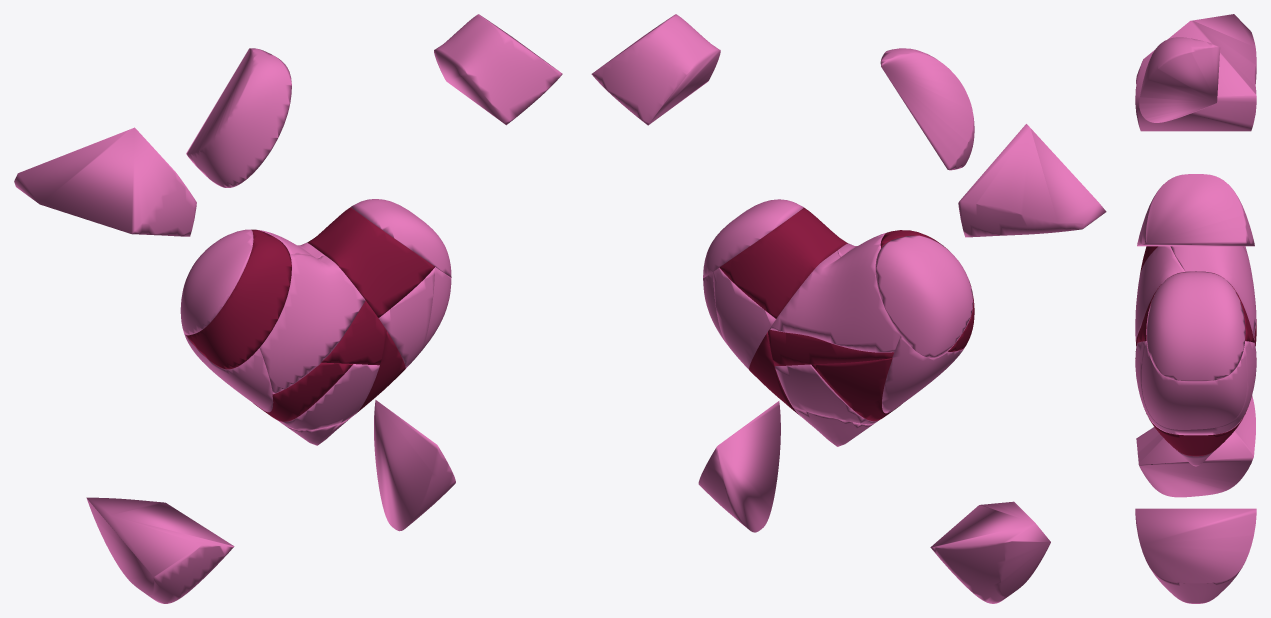
File: corazon 2.0.fbx
The picture shows the model from 3 angles, left to right: view 1: azimuth 30°, elevation 25°; view 2: azimuth 150°, elevation 25°; view 3: azimuth 270°, elevation 25°; orthographic projection. The views are drawn at different scales.
Visible parts, largest first — view 1: Cube.correcto4, Cube.correcto2, Cube.004.correcto5, Cube.011, Cube.correcto3, Cube.003.inc, Cube.006.inc, Cube.correcto1, Cube, Cube.001, Cube.013, Cube.009 (+5 smaller); view 2: Cube.correcto4, Cube, Cube.010, Cube.correcto3, Cube.correcto2, Cube.006.inc, Cube.correcto1, Cube.004.correcto5, Cube.009, Cube.001, Cube.007.inc, Cube.005 (+5 smaller); view 3: Cube.001, Cube.correcto1, Cube.correcto4, Cube.correcto3, Cube.correcto2, Cube.004.correcto5, Cube.002, Cube.010, Cube.011, Cube.009, Cube.004.inc, Cube.006.inc (+1 smaller).
Boxes of the visible parts, left/top/right/bottom form: Cube.correcto4: left=14, top=127, right=196, bottom=236; Cube.correcto2: left=86, top=497, right=234, bottom=603; Cube.004.correcto5: left=186, top=48, right=291, bottom=187; Cube.011: left=259, top=254, right=365, bottom=394; Cube.correcto3: left=434, top=14, right=562, bottom=125; Cube.003.inc: left=186, top=229, right=291, bottom=369; Cube.006.inc: left=307, top=207, right=434, bottom=317; Cube.correcto1: left=374, top=400, right=455, bottom=531; Cube: left=180, top=229, right=253, bottom=335; Cube.001: left=351, top=199, right=451, bottom=277; Cube.013: left=277, top=364, right=379, bottom=430; Cube.009: left=378, top=267, right=435, bottom=368; Cube.correcto4: left=958, top=124, right=1106, bottom=237; Cube: left=875, top=235, right=973, bottom=358; Cube.010: left=769, top=233, right=900, bottom=352; Cube.correcto3: left=591, top=14, right=720, bottom=125; Cube.correcto2: left=930, top=501, right=1050, bottom=603; Cube.006.inc: left=719, top=207, right=847, bottom=318; Cube.correcto1: left=698, top=401, right=780, bottom=532; Cube.004.correcto5: left=880, top=48, right=974, bottom=170; Cube.009: left=713, top=267, right=775, bottom=369; Cube.001: left=703, top=199, right=803, bottom=278; Cube.007.inc: left=811, top=358, right=901, bottom=421; Cube.005: left=882, top=336, right=964, bottom=413; Cube.001: left=1146, top=271, right=1245, bottom=381; Cube.correcto1: left=1135, top=508, right=1256, bottom=603; Cube.correcto4: left=1135, top=14, right=1256, bottom=131; Cube.correcto3: left=1137, top=174, right=1254, bottom=246; Cube.correcto2: left=1136, top=395, right=1255, bottom=497; Cube.004.correcto5: left=1139, top=37, right=1220, bottom=122; Cube.002: left=1141, top=342, right=1247, bottom=429; Cube.010: left=1170, top=246, right=1256, bottom=351; Cube.011: left=1135, top=246, right=1185, bottom=341; Cube.009: left=1135, top=341, right=1256, bottom=435; Cube.004.inc: left=1144, top=409, right=1247, bottom=456; Cube.006.inc: left=1137, top=273, right=1254, bottom=342.
Bounding box in the file's own units: 432 × 427 × 92.72.
